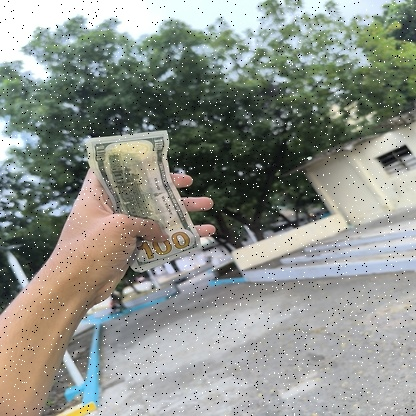one_hundred-back: (79, 128, 204, 277)
